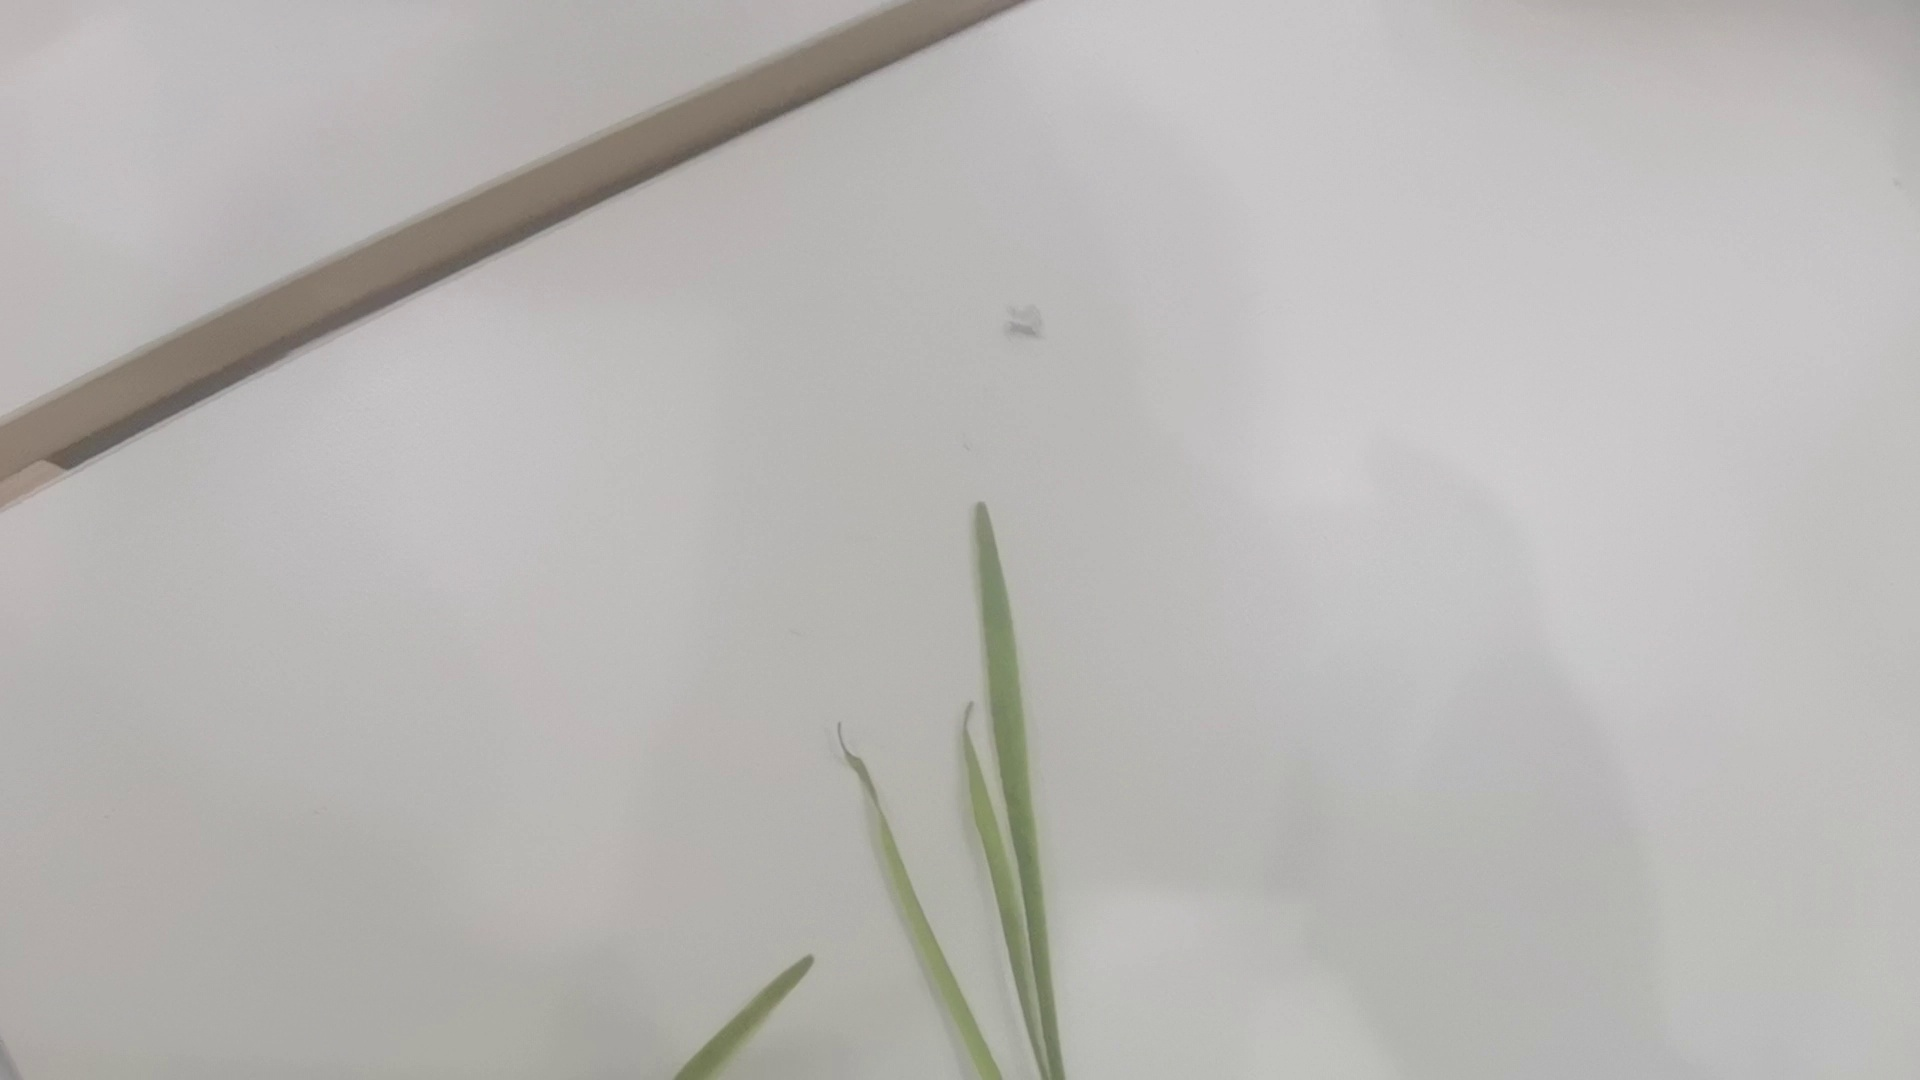chives: (670, 506, 1069, 1080)
